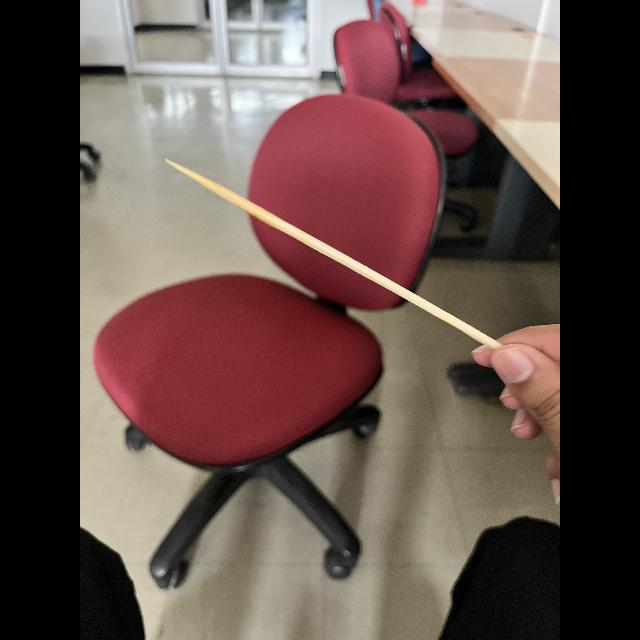stick: (161, 154, 499, 348)
